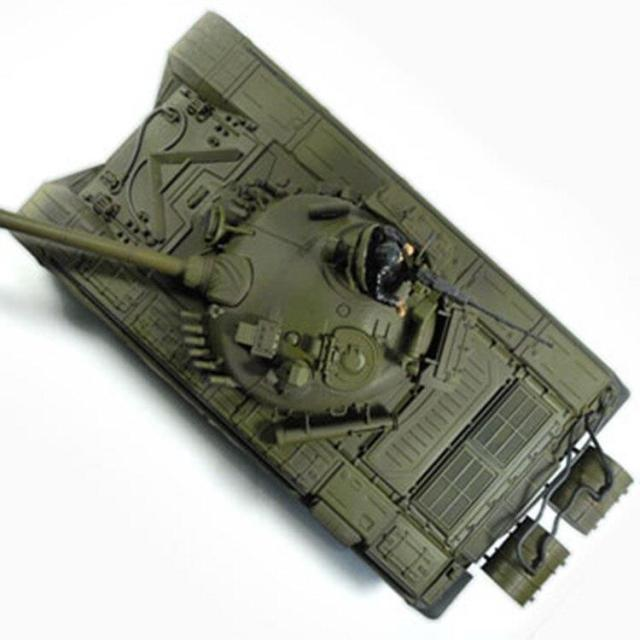Tanks: (14, 20, 568, 600)
